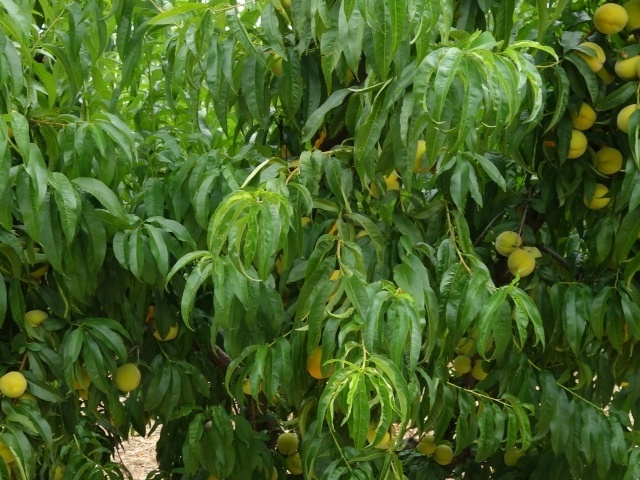peach: (300, 341, 339, 381), (589, 1, 632, 37), (573, 37, 609, 77), (364, 416, 399, 453), (406, 141, 440, 178), (366, 168, 404, 201), (505, 245, 537, 281), (581, 182, 615, 215), (568, 101, 601, 134), (592, 144, 625, 177), (110, 360, 144, 392), (562, 126, 590, 162), (491, 228, 523, 259), (611, 49, 640, 83), (616, 100, 640, 138), (150, 319, 182, 347), (18, 306, 51, 332), (273, 429, 302, 458), (1, 369, 28, 399), (428, 443, 458, 469), (67, 366, 93, 396), (281, 448, 308, 476), (411, 431, 441, 456), (449, 351, 475, 378), (468, 357, 495, 383), (500, 443, 527, 469), (454, 335, 481, 359), (267, 51, 289, 77)
